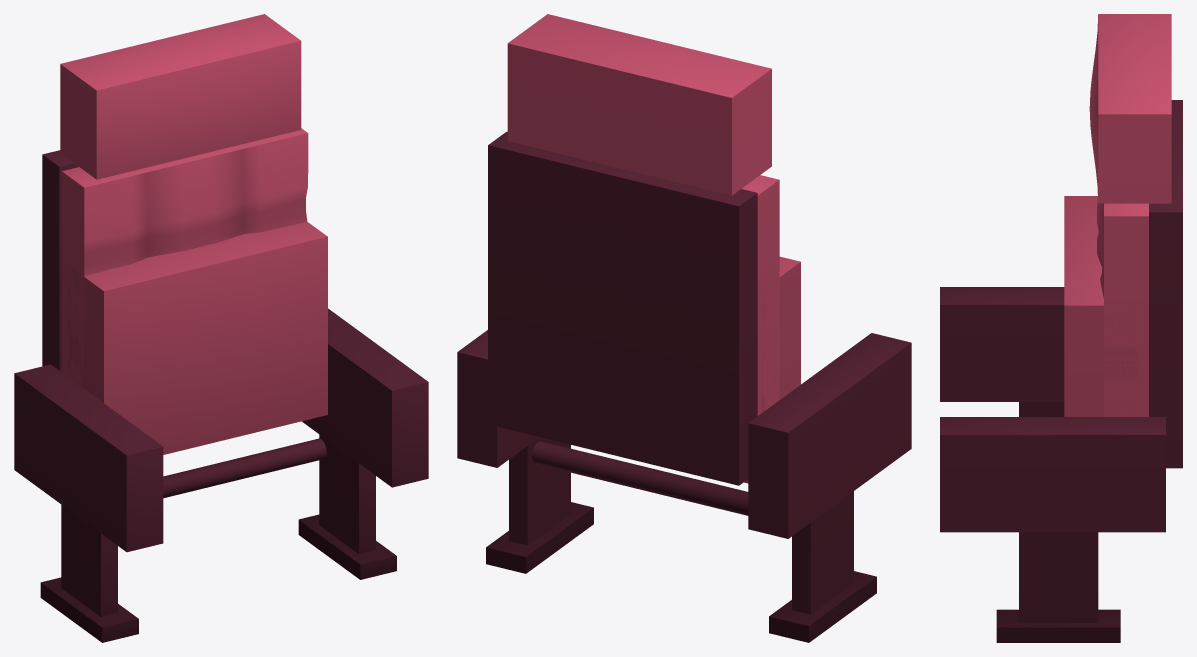
File: standard_tipped.glb
3 views of the same model, side by side, from view 1: azimuth 30°, elevation 25°; view 2: azimuth 150°, elevation 25°; view 3: azimuth 270°, elevation 25° (orthographic). The views are drawn at different scales.
Visible parts, largest first — view 1: StandardSeat_Tipped; view 2: StandardSeat_Tipped; view 3: StandardSeat_Tipped.
Part boxes in pixels (box(x1,y1,x2,y2)): StandardSeat_Tipped: box(14, 14, 428, 642); StandardSeat_Tipped: box(457, 14, 911, 642); StandardSeat_Tipped: box(940, 14, 1182, 642).
Bounding box in the file's own units: 1.24 × 2 × 0.86.
